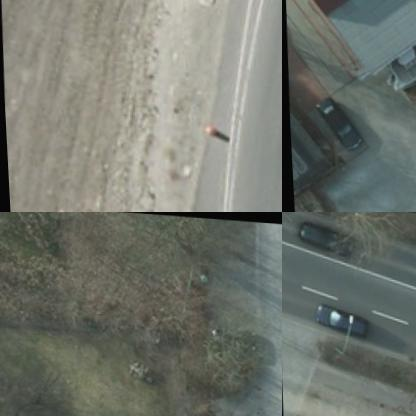car: (313, 98, 355, 152), (296, 224, 356, 260), (314, 304, 366, 341)
